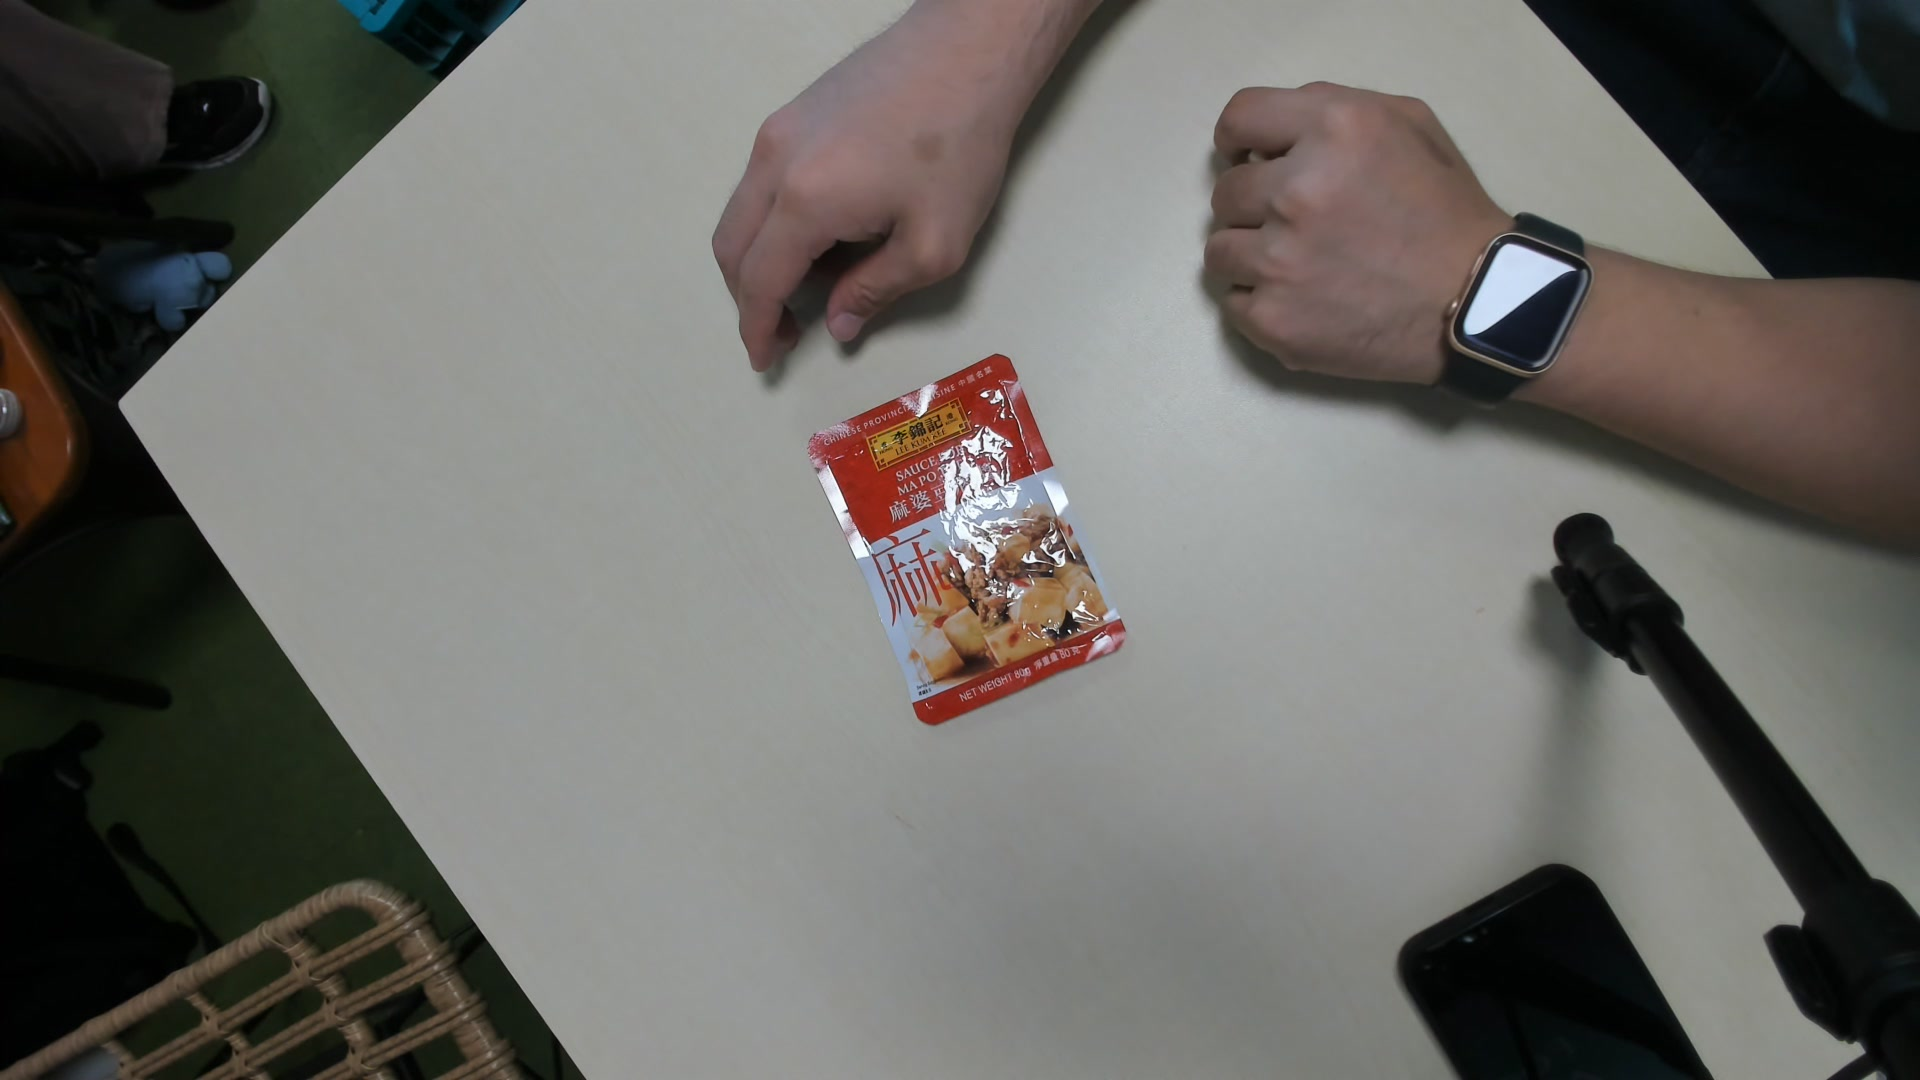OtherSauceDressing_0-99g_NonHalal_NonHealthy: (806, 355, 1124, 725)
